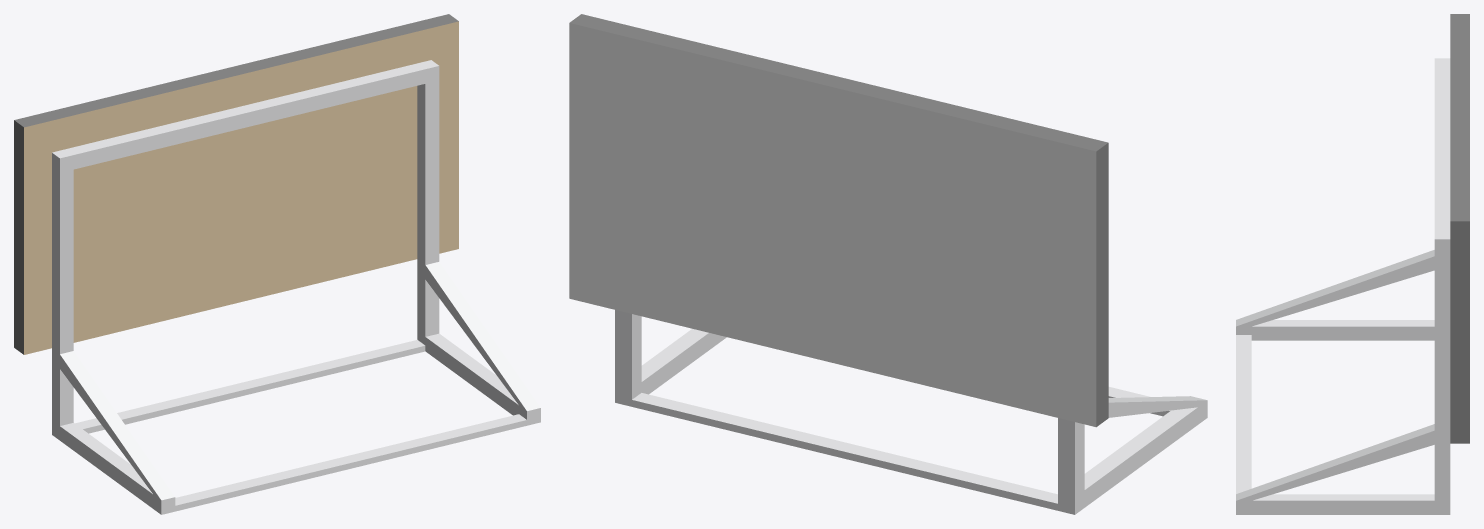
3 views of the same model, side by side, from view 1: azimuth 30°, elevation 25°; view 2: azimuth 150°, elevation 25°; view 3: azimuth 270°, elevation 25° (orthographic). The views are drawn at different scales.
Visible parts, largest first — view 1: billboardLow; view 2: billboardLow; view 3: billboardLow.
Boxes of the visible parts, x1,y1,x2,y2 form: billboardLow: (14,14,540,514); billboardLow: (569,14,1207,514); billboardLow: (1236,14,1469,514).
Size of the model in its own units: 10 by 6.9 by 4.76.
